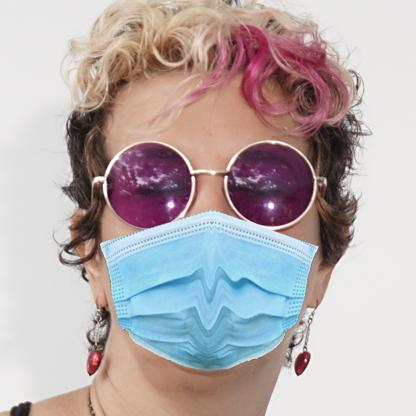mask: (95, 208, 319, 377)
